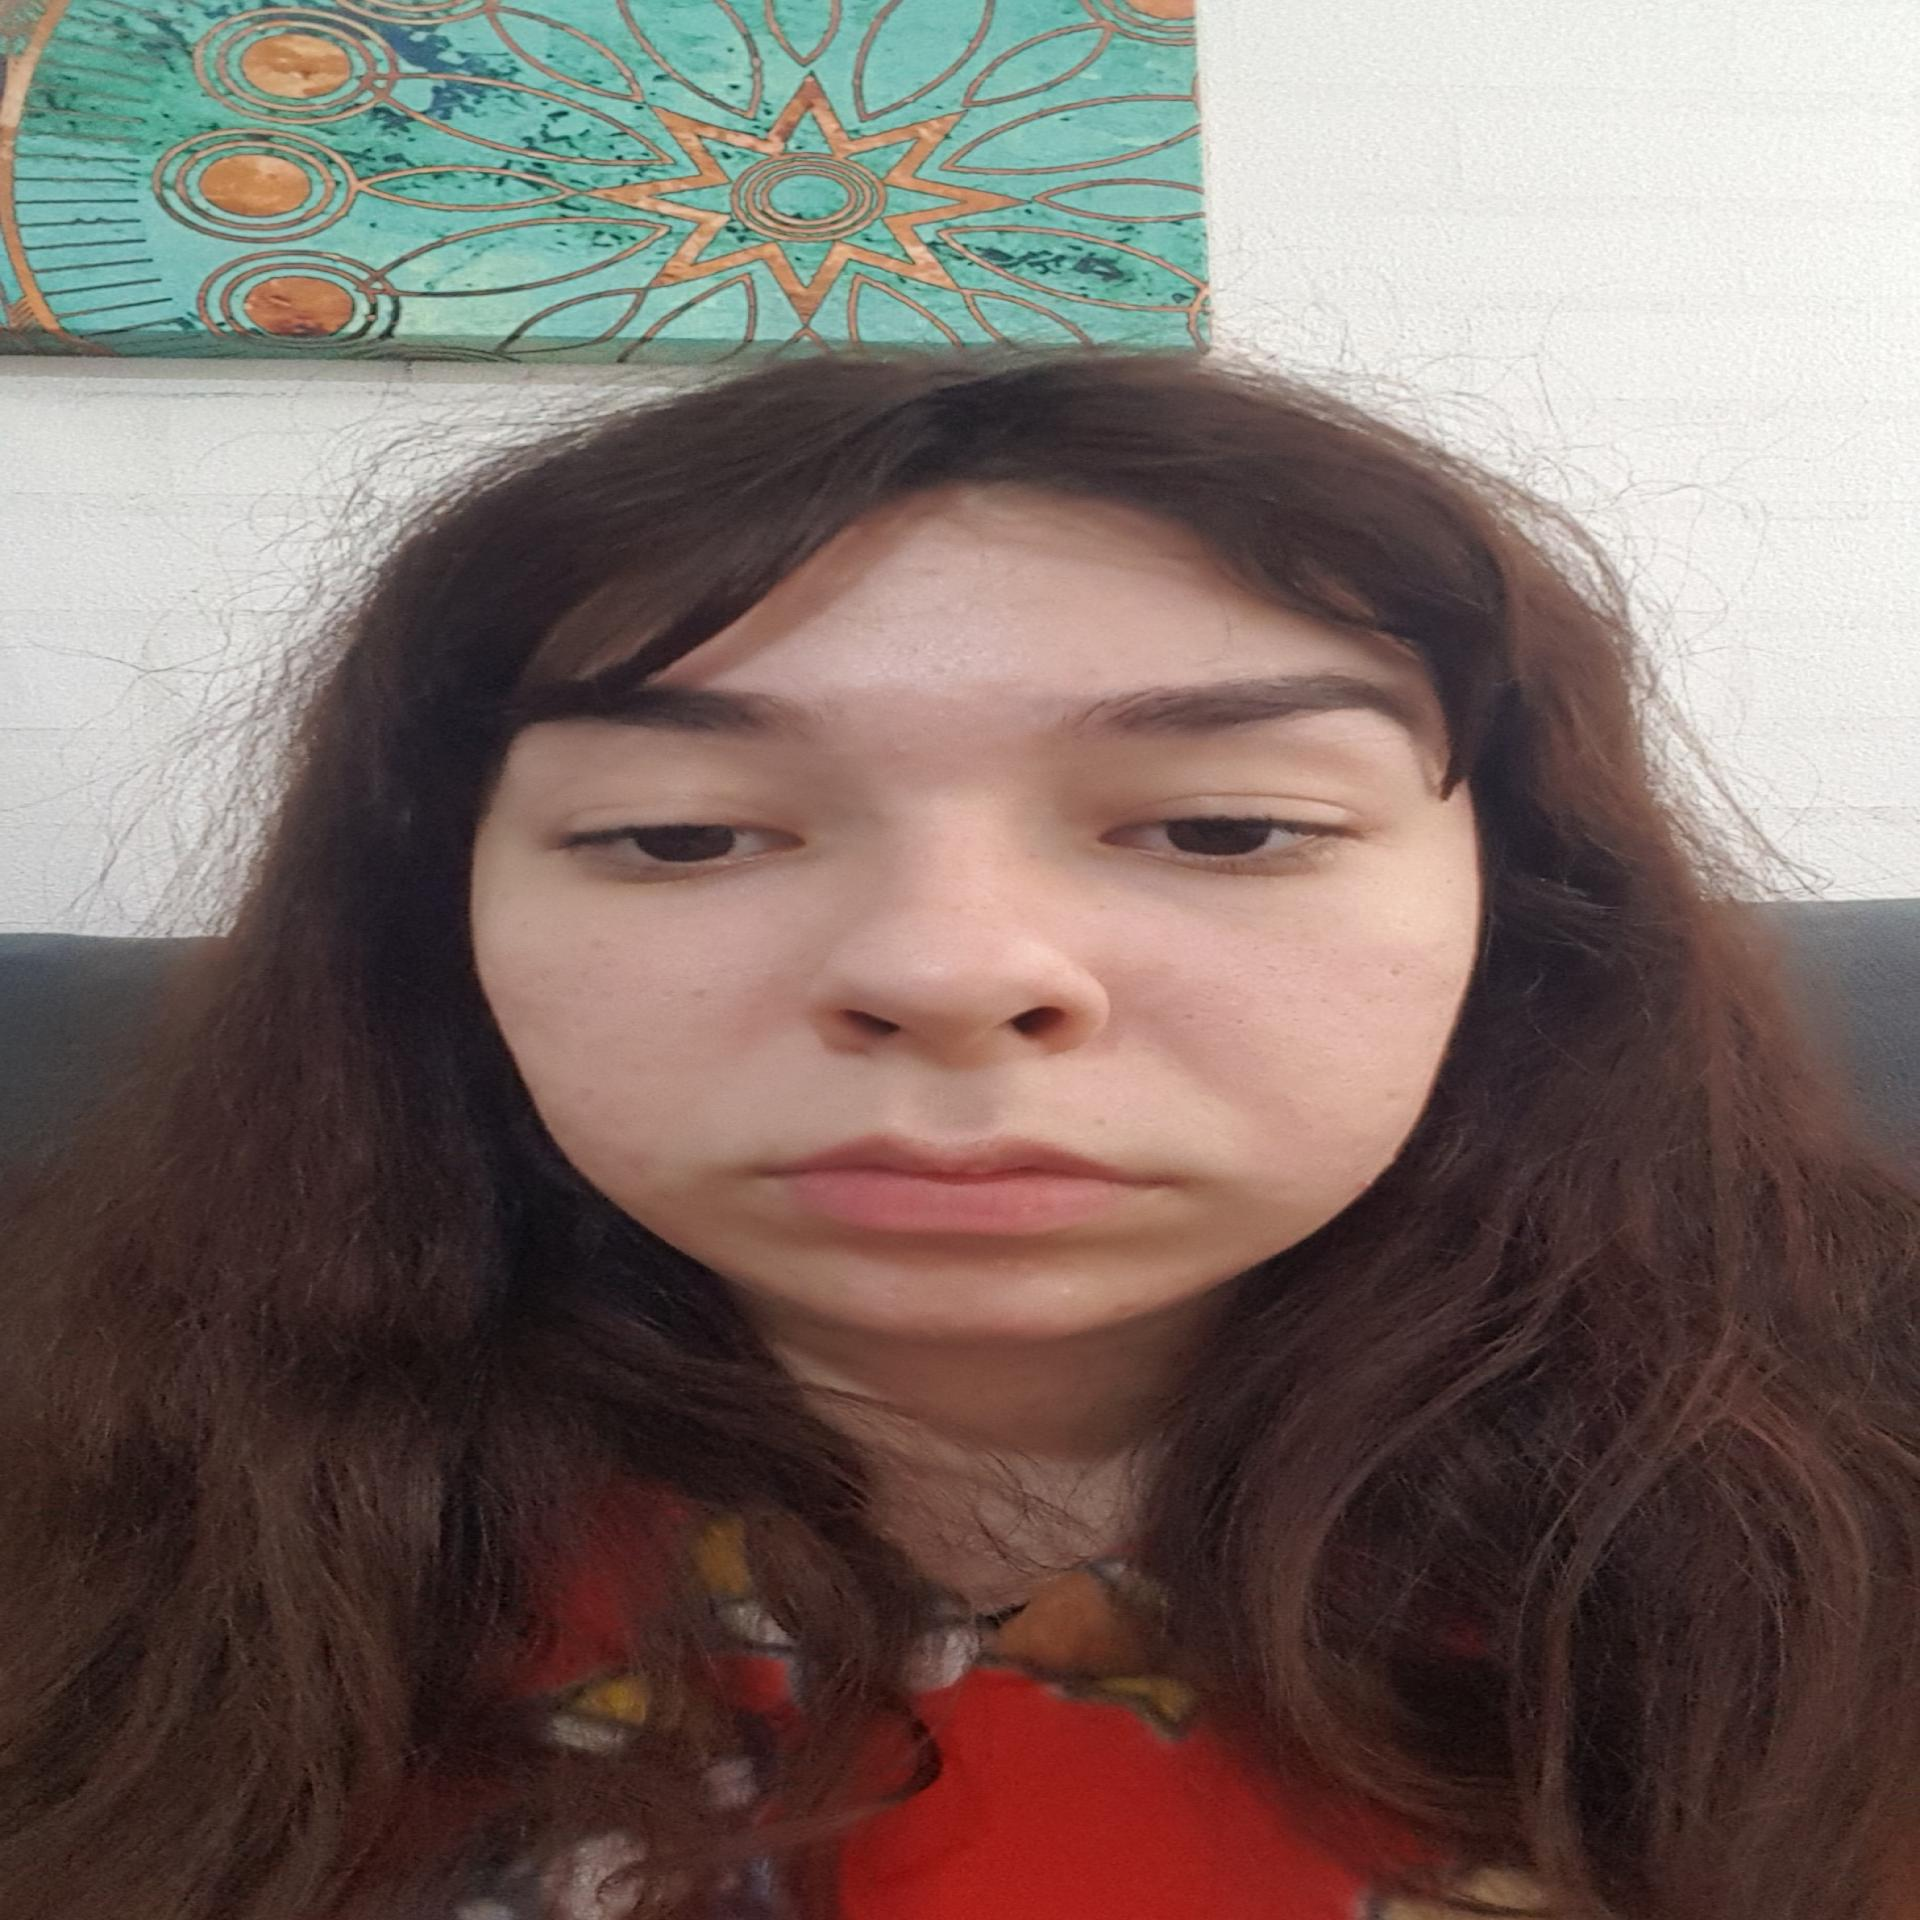Acne: (979, 1254, 1044, 1276), (619, 1146, 661, 1180), (566, 1081, 603, 1109), (907, 563, 944, 585), (682, 983, 717, 1004)
Englarged Pores: (1160, 948, 1401, 1032)
